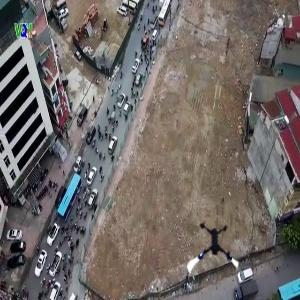drone: (186, 220, 247, 281)
